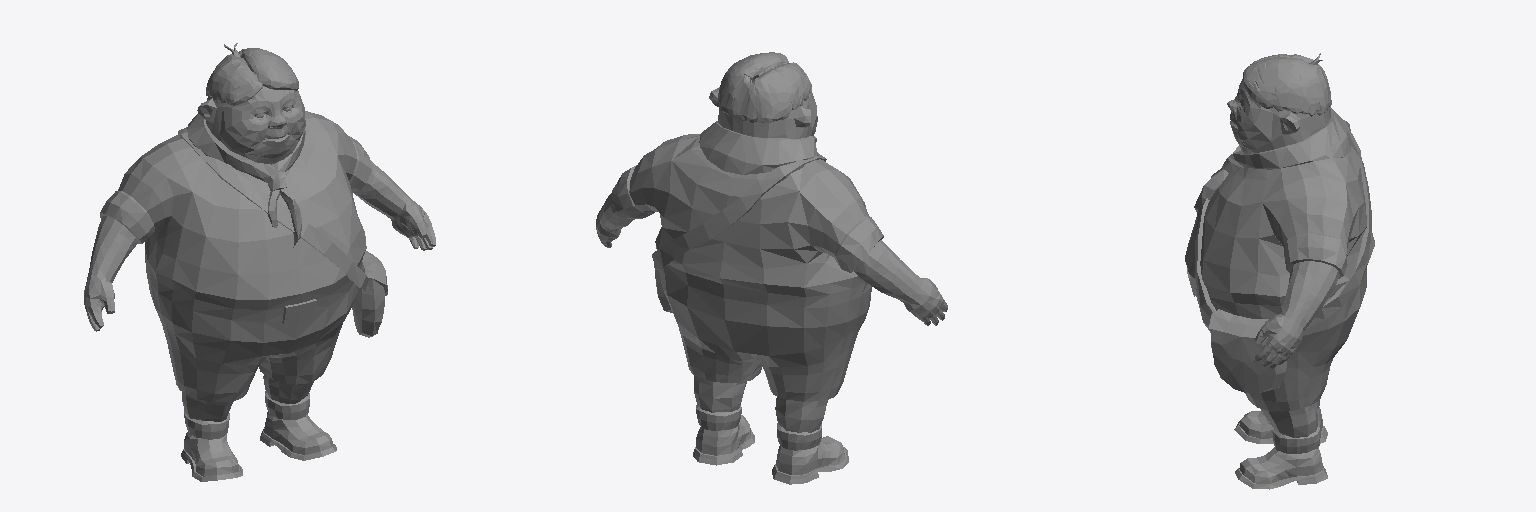
File: Mike.obj
The picture shows the model from 3 angles: view 1: azimuth 30°, elevation 25°; view 2: azimuth 150°, elevation 25°; view 3: azimuth 270°, elevation 25°; orthographic projection.
Visible parts, largest first — view 1: CH_Mike; view 2: CH_Mike; view 3: CH_Mike.
Part boxes in pixels (left/top/right/bottom): CH_Mike: left=84, top=43, right=435, bottom=481; CH_Mike: left=596, top=52, right=947, bottom=484; CH_Mike: left=1185, top=53, right=1374, bottom=489.
Size of the model in its own units: 60.98 by 67.91 by 29.41.